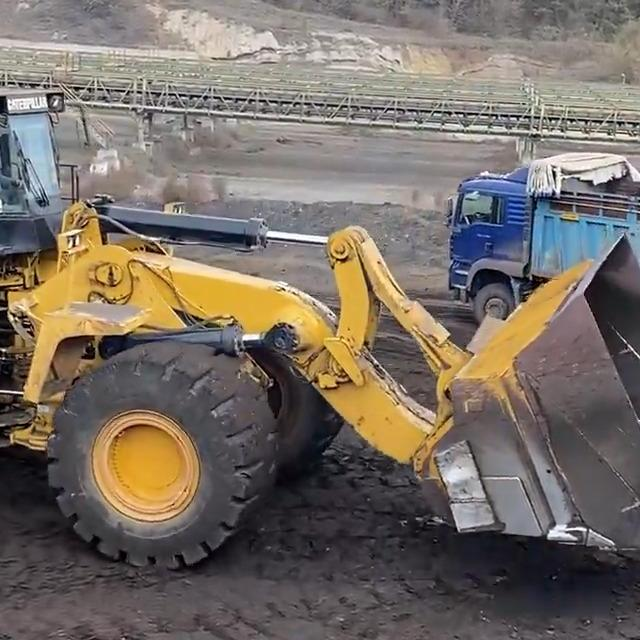Person: (0, 144, 22, 193)
dump truck: (449, 147, 640, 393)
wheel loader: (0, 79, 640, 579)
